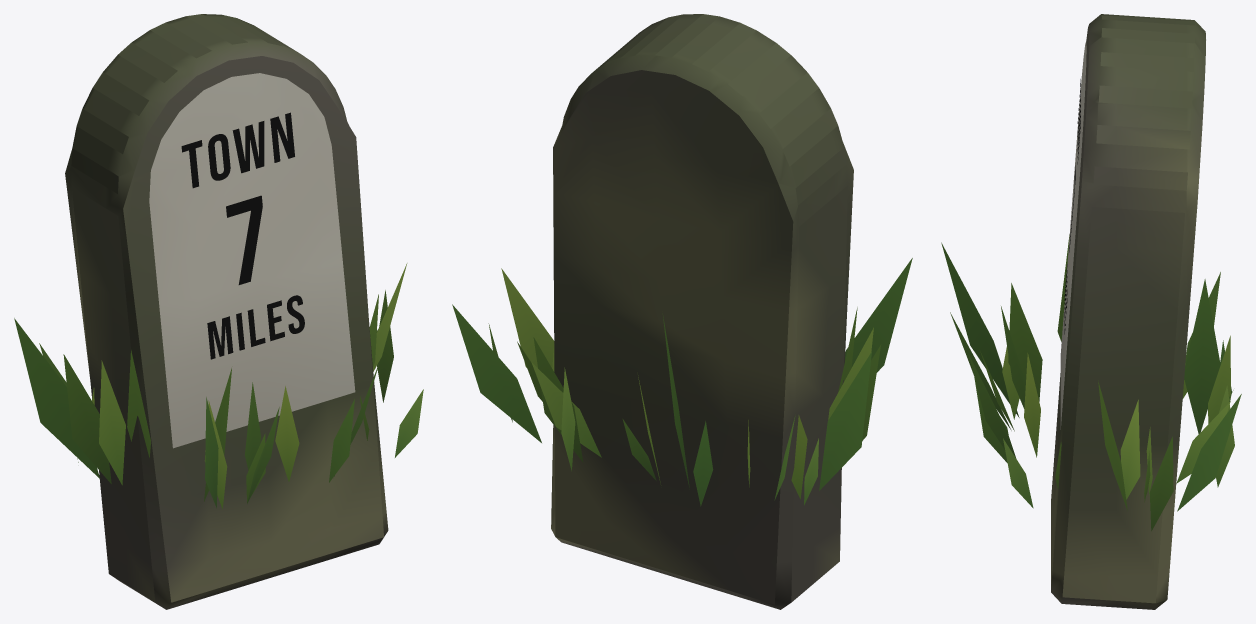
File: milestone.glb
The picture shows the model from 3 angles, left to right: view 1: azimuth 30°, elevation 25°; view 2: azimuth 150°, elevation 25°; view 3: azimuth 270°, elevation 25°; orthographic projection. The views are drawn at different scales.
Parts seen in each view (by area): view 1: Body, Grass; view 2: Body, Grass; view 3: Body, Grass.
Boxes of the visible parts, bbox=[...] form: Body: bbox=[65, 14, 388, 609]; Grass: bbox=[14, 263, 423, 508]; Body: bbox=[551, 14, 853, 609]; Grass: bbox=[452, 258, 912, 506]; Body: bbox=[1051, 14, 1205, 609]; Grass: bbox=[941, 234, 1241, 531].
Bounding box in the file's own units: 0.7418 × 1.01 × 0.515.
